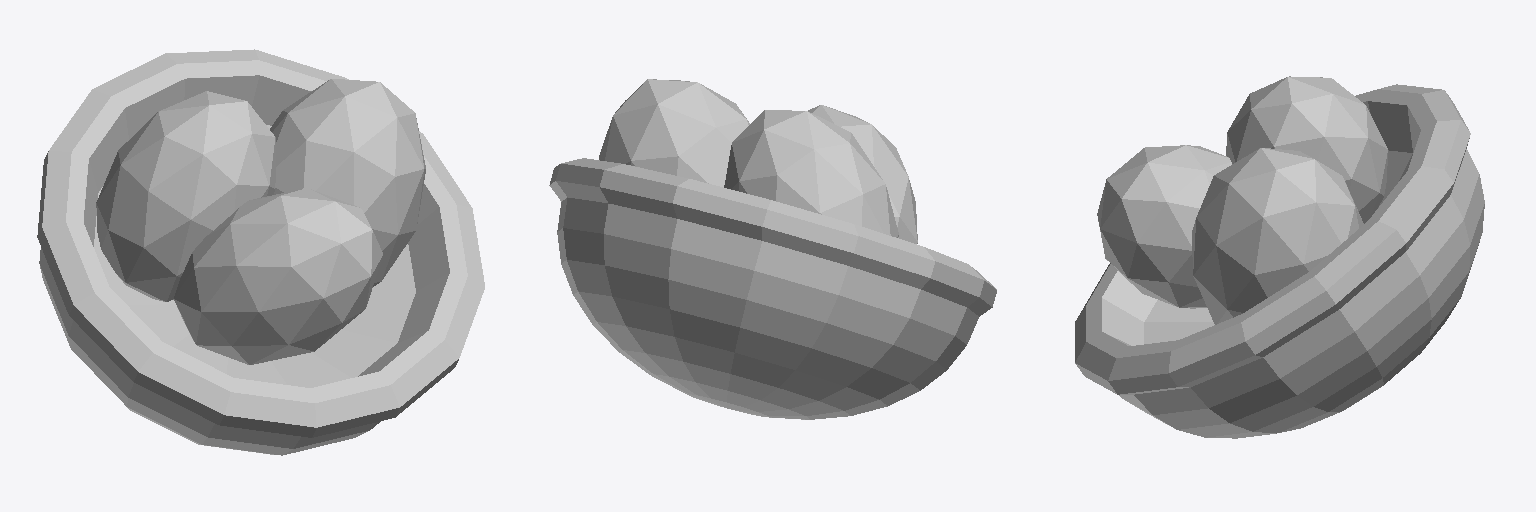
File: tile_birdnest.obj
3 views of the same model, side by side, from view 1: azimuth 30°, elevation 25°; view 2: azimuth 150°, elevation 25°; view 3: azimuth 270°, elevation 25° (orthographic).
Parts seen in each view (by area): view 1: Sphere, Icosphere.001, Icosphere, Icosphere.002; view 2: Sphere, Icosphere, Icosphere.002, Icosphere.001; view 3: Sphere, Icosphere.002, Icosphere.001, Icosphere.
Boxes of the visible parts, x1,y1,x2,y2 form: Sphere: [37, 49, 484, 455]; Icosphere.001: [174, 188, 383, 364]; Icosphere: [96, 91, 275, 301]; Icosphere.002: [270, 79, 425, 286]; Sphere: [549, 158, 996, 419]; Icosphere: [724, 110, 898, 237]; Icosphere.002: [599, 79, 749, 187]; Icosphere.001: [808, 105, 917, 243]; Sphere: [1075, 84, 1484, 438]; Icosphere.002: [1192, 148, 1363, 324]; Icosphere.001: [1097, 145, 1231, 308]; Icosphere: [1226, 76, 1387, 223].
Bounding box in the file's own units: 1.21 × 0.9203 × 1.08.